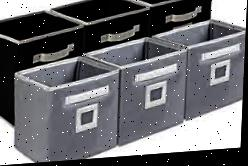cube: (11, 54, 122, 165), (87, 37, 190, 155), (154, 22, 247, 131)
